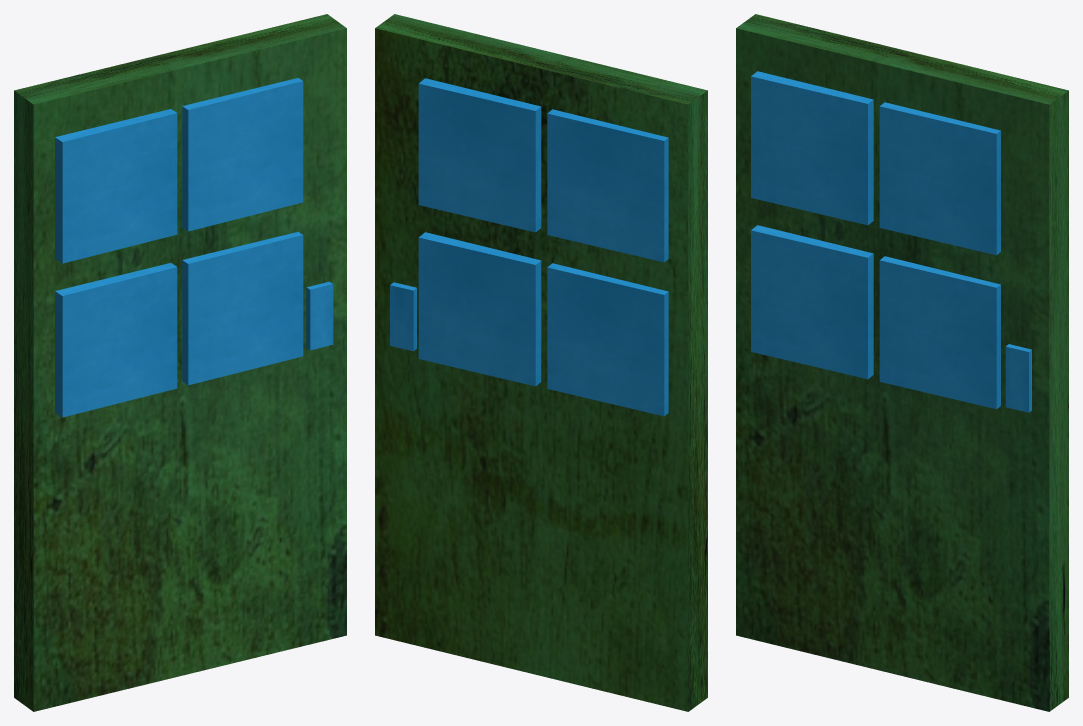
File: Puerta.obj
3 views of the same model, side by side, from view 1: azimuth 30°, elevation 25°; view 2: azimuth 150°, elevation 25°; view 3: azimuth 330°, elevation 25° (orthographic).
Visible parts, largest first — view 1: Cube; view 2: Cube; view 3: Cube.
Part boxes in pixels (bbox=[...]): Cube: bbox=[14, 14, 346, 711]; Cube: bbox=[375, 14, 707, 711]; Cube: bbox=[736, 14, 1068, 711].
Size of the model in its own units: 5.4 by 10 by 1.01.
